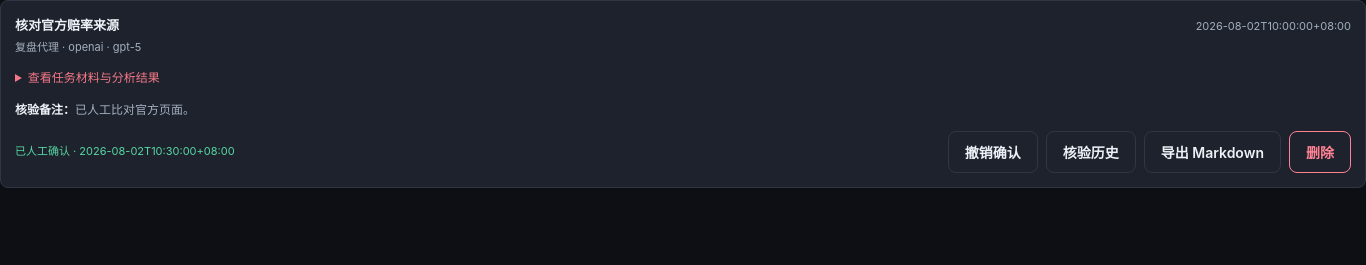
Test: AgentWorkspaceArchiveItem › 按需加载并显示确认与撤销确认的核验历史
The image size is (1366, 265).
Click the button "核验历史": [1091, 152] box [1046,131,1136,173]
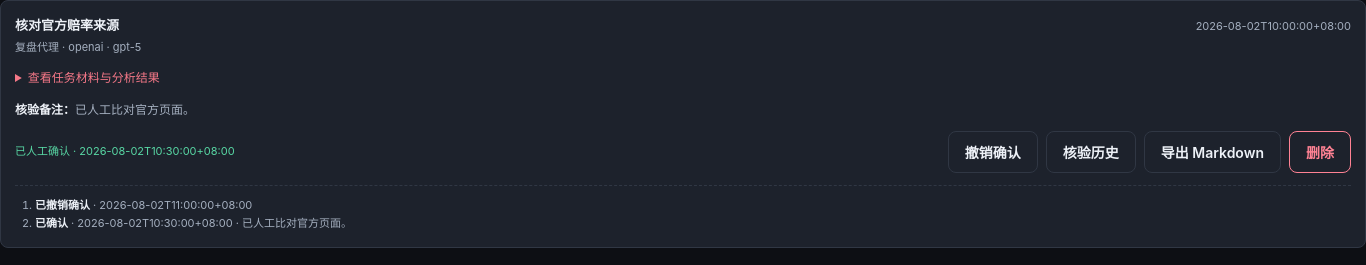
Expected: the list named "核验历史" is shown, [15,185,1351,233]
Expected: the text "已撤销确认" is shown, [35,198,90,212]
Expected: the text "已确认" is shown, [35,216,68,230]
